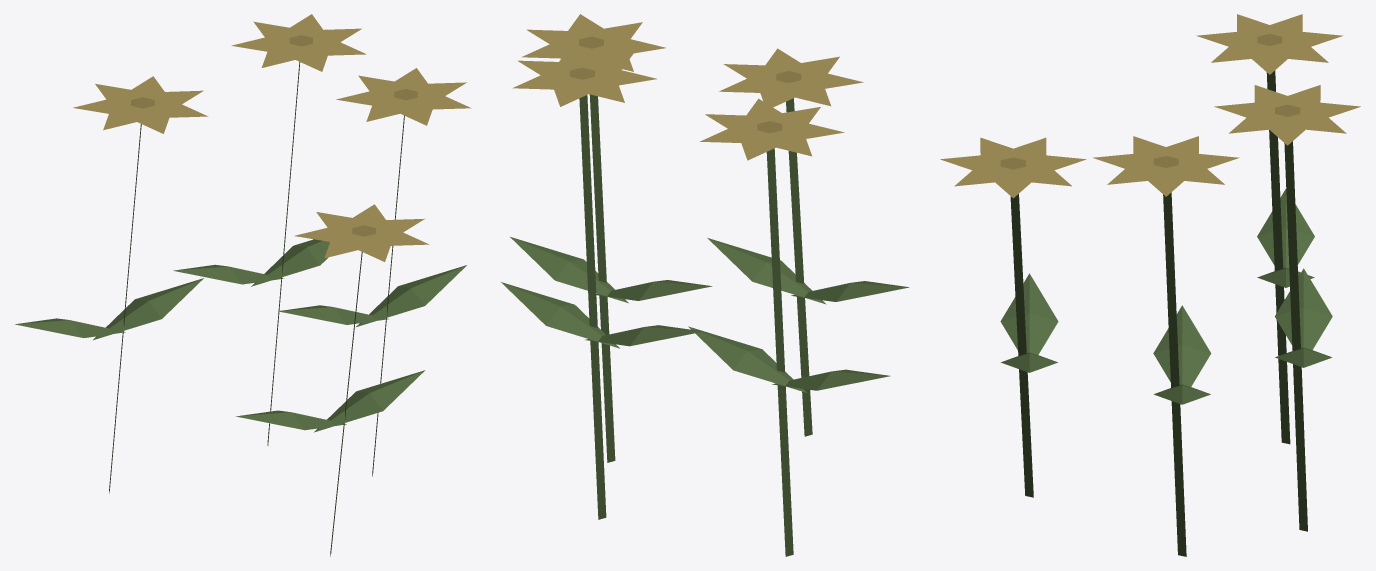
Rendered from ground_flowers_yellow.glb.
3 renders of one model, left to right at view 1: azimuth 30°, elevation 25°; view 2: azimuth 150°, elevation 25°; view 3: azimuth 270°, elevation 25°, orthographic. The views are drawn at different scales.
Parts seen in each view (by area): view 1: ground_flowers_yellow; view 2: ground_flowers_yellow; view 3: ground_flowers_yellow.
Part boxes in pixels (x1,y1,x2,y2): ground_flowers_yellow: [15, 14, 471, 556]; ground_flowers_yellow: [501, 14, 909, 556]; ground_flowers_yellow: [940, 14, 1360, 556].
Bounding box in the file's own units: 0.3112 × 0.2964 × 0.2615.
